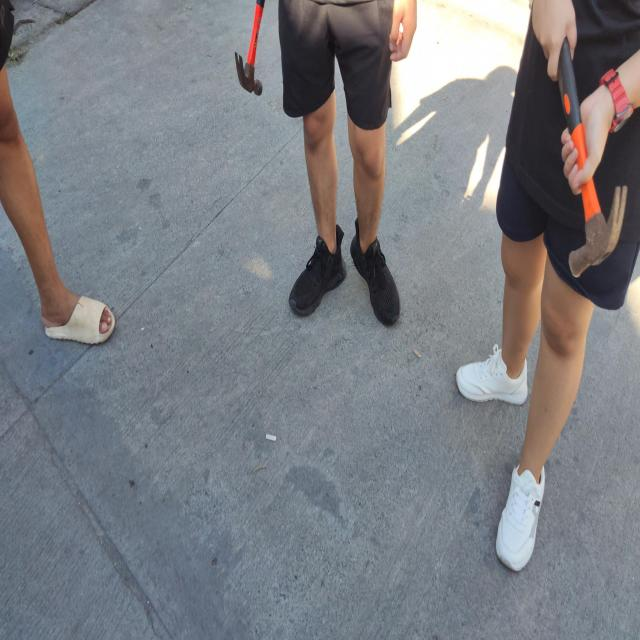hammer: (558, 35, 628, 276), (234, 0, 264, 96)
